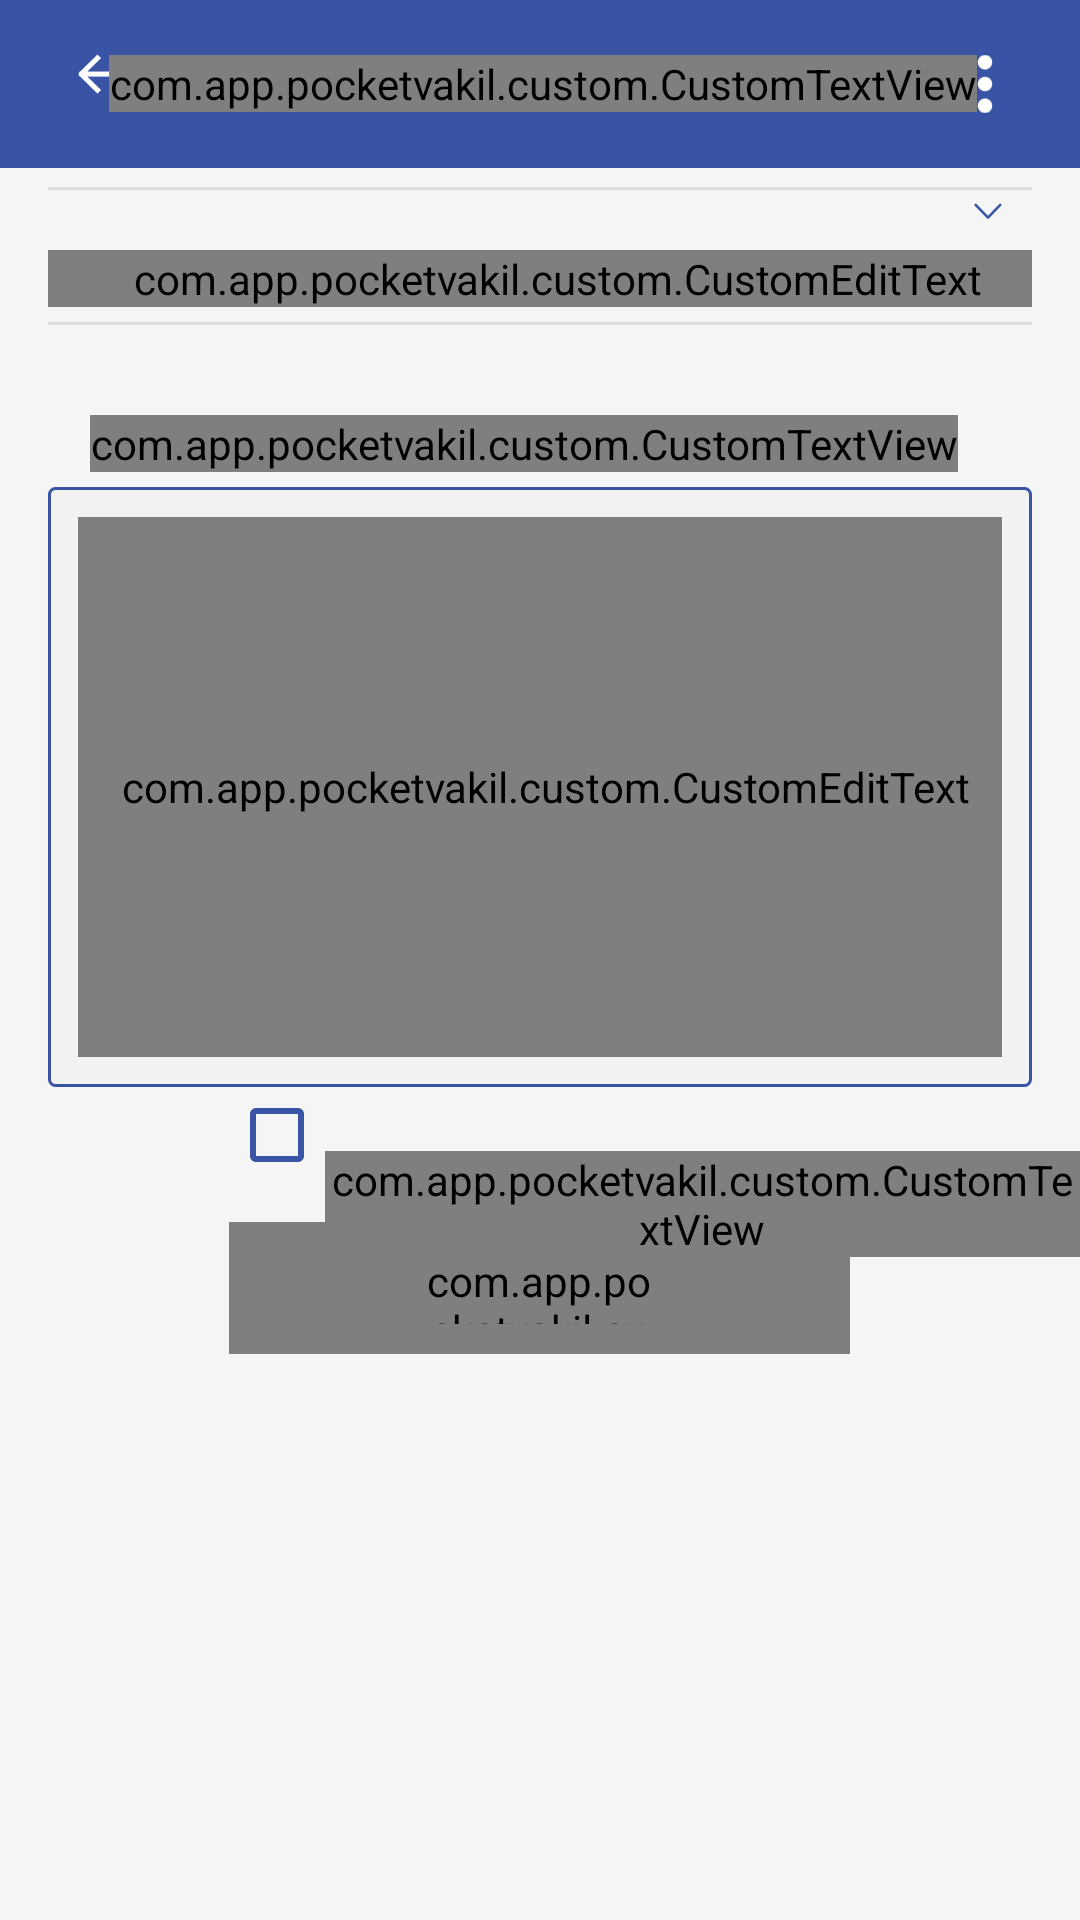

Icons on this 1080*1920 Android screen, each with the point to tap as [x,y]:
back: [100,74]
dots: [985,84]
